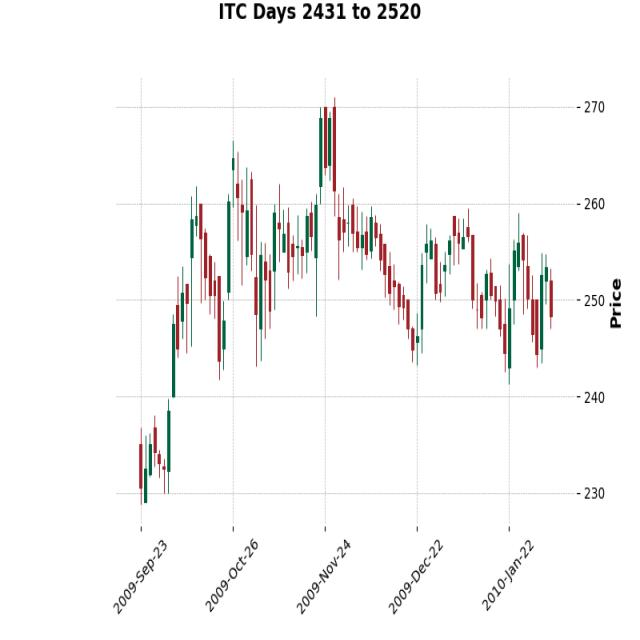Symmetric Triangle: (222, 130, 343, 365)
